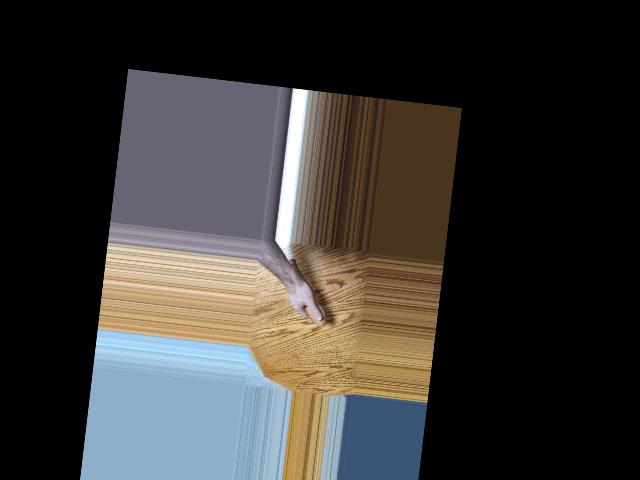sweet_potato: (278, 255, 332, 328)
